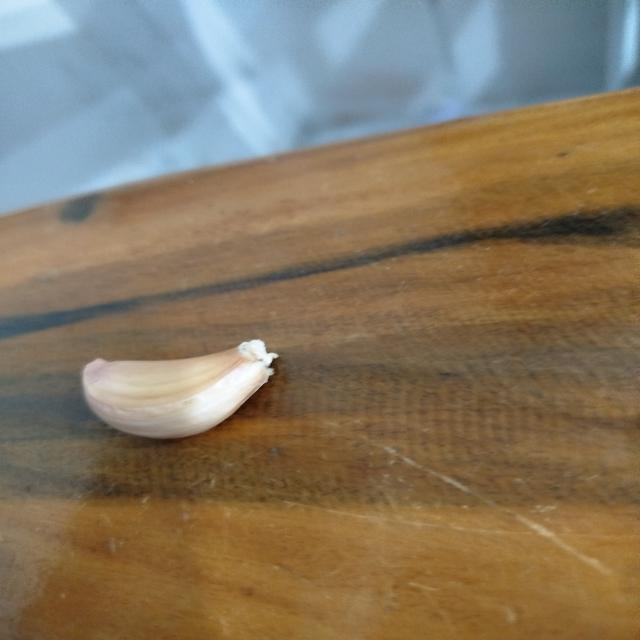garlic: (80, 338, 280, 440)
